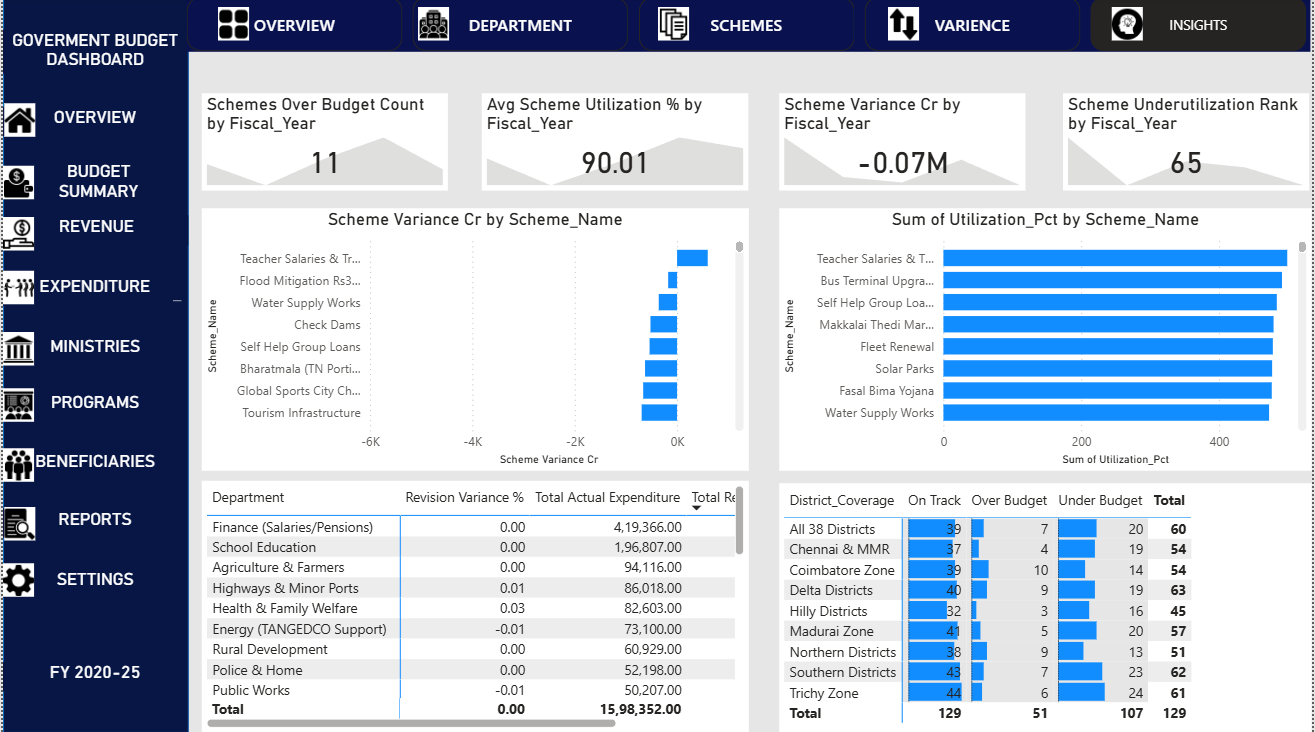

The dashboard page shown, as its layout file describes it:
{"tool":"powerbi","page":{"name":"INSIGHTS","canvas":[1280,720],"ordinal":4},"visuals":[{"type":"pivotTable","fields":{"Rows":["DIM_DEPARTMENT.Department"],"Values":["MEASURE 2.Revision Variance %","MEASURE 1.Total Actual Expenditure","MEASURE 2.Total Revised Estimate"]},"box":[194.8,473.2,535.3,246.7],"z":3},{"type":"pivotTable","fields":{"Columns":["TN_Scheme_Level_Spending_2020_2025 .Budget_Status"],"Rows":["TN_Scheme_Level_Spending_2020_2025 .District_Coverage"],"Values":["MEASURE 3.Scheme Count"]},"box":[758.9,476.1,520.8,243.8],"z":4},{"type":"clusteredBarChart","fields":{"Category":["TN_Scheme_Level_Spending_2020_2025 .Scheme_Name"],"Y":["measure 5.Scheme Variance Cr"]},"box":[194.8,206.3,535.3,256.8],"z":5},{"type":"barChart","fields":{"Category":["TN_Scheme_Level_Spending_2020_2025 .Scheme_Name"],"Y":["Sum(TN_Scheme_Level_Spending_2020_2025 .Utilization_Pct)"]},"box":[758.9,206.3,520.8,256.8],"z":6},{"type":"shape","box":[0,0,181.8,719.9],"z":7},{"type":"textbox","title":"GOVERMENT BUDGET DASHBOARD","box":[0,31.7,180.3,43.3],"z":8},{"type":"textbox","title":"OVERVIEW","box":[0,108.2,180.3,28.9],"z":9},{"type":"textbox","title":"      BUDGET SUMMARY","box":[17.3,160.1,152.9,46.2],"z":10},{"type":"textbox","title":"REVENUE","box":[1.4,213.5,180.3,28.9],"z":11},{"type":"textbox","title":"EXPENDITURE","box":[0,272.7,179.8,29.3],"z":12},{"type":"textbox","title":"MINISTRIES","box":[0,331.8,180.3,28.9],"z":13},{"type":"textbox","title":"PROGRAMS","box":[0,386.7,180.3,28.9],"z":14},{"type":"textbox","title":"BENEFICIARIES","box":[0,444.4,180.3,28.9],"z":15},{"type":"textbox","title":"REPORTS","box":[0,500.6,180.3,28.9],"z":16},{"type":"textbox","title":"SETTINGS","box":[0,558.3,180.3,28.9],"z":17},{"type":"textbox","title":"FY 2020-25   ","box":[0,650.7,180.3,28.9],"z":18},{"type":"pageNavigator","box":[180.3,0,1099.4,53.4],"z":19},{"type":"kpi","fields":{"Indicator":["measure 5.Scheme Underutilization Rank"],"TrendLine":["DIM_FISCAL_YEAR.Fiscal_Year"]},"box":[1037.3,93.8,240.9,95.2],"z":20},{"type":"kpi","fields":{"Indicator":["measure 5.Scheme Variance Cr"],"TrendLine":["DIM_FISCAL_YEAR.Fiscal_Year"]},"box":[758.9,93.8,240.9,95.2],"z":21},{"type":"kpi","fields":{"Indicator":["measure 5.Avg Scheme Utilization %"],"TrendLine":["DIM_FISCAL_YEAR.Fiscal_Year"]},"box":[468.9,93.8,261.1,95.2],"z":22},{"type":"kpi","fields":{"Indicator":["measure 5.Schemes Over Budget Count"],"TrendLine":["DIM_FISCAL_YEAR.Fiscal_Year"]},"box":[194.8,93.8,240.9,95.2],"z":23},{"type":"image","box":[210.6,10.1,30.3,33.2],"z":24},{"type":"image","box":[405.4,10.1,30.3,33.2],"z":25},{"type":"image","box":[640.6,10.1,30.3,33.2],"z":26},{"type":"image","box":[865.7,10.1,30.3,33.2],"z":27},{"type":"image","box":[1085,10.1,30.3,33.2],"z":28},{"type":"image","box":[1.4,103.9,30.3,33.2],"z":29},{"type":"image","box":[0,164.5,30.3,33.2],"z":30},{"type":"image","box":[0,215,30.3,33.2],"z":31},{"type":"image","box":[0,268.4,30.3,33.2],"z":32},{"type":"image","box":[0,327.5,30.3,33.2],"z":33},{"type":"image","box":[0,382.3,30.3,33.2],"z":34},{"type":"image","box":[0,441.5,30.3,33.2],"z":35},{"type":"image","box":[1.4,499.2,30.3,33.2],"z":36},{"type":"image","box":[0,554,30.3,33.2],"z":37}]}

Visuals, with their boxes in screenshot pixels (x1, y1, x2, y2), scaled from the page's 1280x720 canvas onto the 1315x732 screenshot:
pivotTable - DIM_DEPARTMENT.Department x MEASURE 2.Revision Variance %: [left=200, top=481, right=750, bottom=731]
pivotTable - TN_Scheme_Level_Spending_2020_2025 .Budget_Status x TN_Scheme_Level_Spending_2020_2025 .District_Coverage: [left=780, top=484, right=1314, bottom=731]
clusteredBarChart - TN_Scheme_Level_Spending_2020_2025 .Scheme_Name x measure 5.Scheme Variance Cr: [left=200, top=210, right=750, bottom=471]
barChart - TN_Scheme_Level_Spending_2020_2025 .Scheme_Name x Sum(TN_Scheme_Level_Spending_2020_2025 .Utilization_Pct): [left=780, top=210, right=1314, bottom=471]
shape: [left=0, top=0, right=187, bottom=731]
"GOVERMENT BUDGET DASHBOARD" textbox: [left=0, top=32, right=185, bottom=76]
"OVERVIEW" textbox: [left=0, top=110, right=185, bottom=139]
"      BUDGET SUMMARY" textbox: [left=18, top=163, right=175, bottom=210]
"REVENUE" textbox: [left=1, top=217, right=187, bottom=246]
"EXPENDITURE" textbox: [left=0, top=277, right=185, bottom=307]
"MINISTRIES" textbox: [left=0, top=337, right=185, bottom=367]
"PROGRAMS" textbox: [left=0, top=393, right=185, bottom=423]
"BENEFICIARIES" textbox: [left=0, top=452, right=185, bottom=481]
"REPORTS" textbox: [left=0, top=509, right=185, bottom=538]
"SETTINGS" textbox: [left=0, top=568, right=185, bottom=597]
"FY 2020-25   " textbox: [left=0, top=662, right=185, bottom=691]
pageNavigator: [left=185, top=0, right=1314, bottom=54]
kpi - measure 5.Scheme Underutilization Rank x DIM_FISCAL_YEAR.Fiscal_Year: [left=1066, top=95, right=1313, bottom=192]
kpi - measure 5.Scheme Variance Cr x DIM_FISCAL_YEAR.Fiscal_Year: [left=780, top=95, right=1027, bottom=192]
kpi - measure 5.Avg Scheme Utilization % x DIM_FISCAL_YEAR.Fiscal_Year: [left=482, top=95, right=750, bottom=192]
kpi - measure 5.Schemes Over Budget Count x DIM_FISCAL_YEAR.Fiscal_Year: [left=200, top=95, right=448, bottom=192]
image: [left=216, top=10, right=247, bottom=44]
image: [left=416, top=10, right=448, bottom=44]
image: [left=658, top=10, right=689, bottom=44]
image: [left=889, top=10, right=920, bottom=44]
image: [left=1115, top=10, right=1146, bottom=44]
image: [left=1, top=106, right=33, bottom=139]
image: [left=0, top=167, right=31, bottom=201]
image: [left=0, top=219, right=31, bottom=252]
image: [left=0, top=273, right=31, bottom=307]
image: [left=0, top=333, right=31, bottom=367]
image: [left=0, top=389, right=31, bottom=422]
image: [left=0, top=449, right=31, bottom=483]
image: [left=1, top=508, right=33, bottom=541]
image: [left=0, top=563, right=31, bottom=597]
